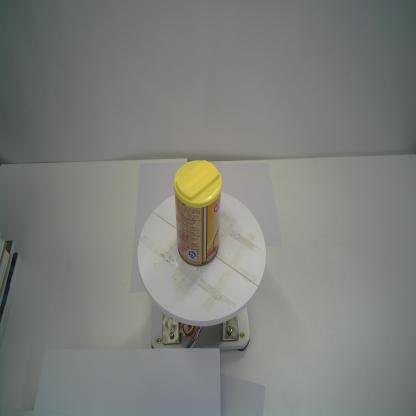Canned Food: (173, 158, 223, 267)
